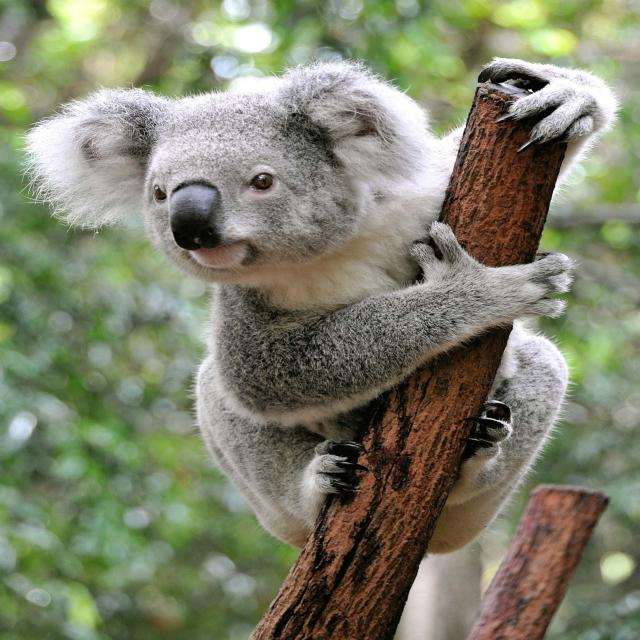Koala: (45, 59, 579, 538)
